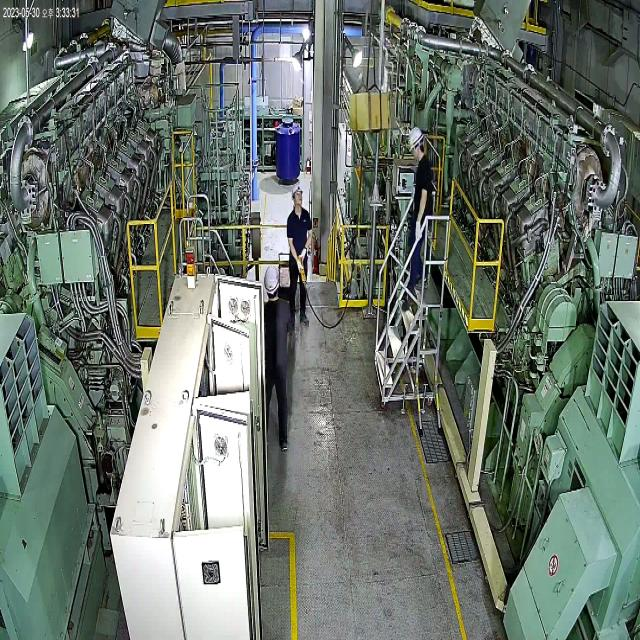Water Tank: (272, 112, 302, 192)
worker: (251, 263, 294, 465), (396, 126, 434, 315), (284, 176, 318, 334)
